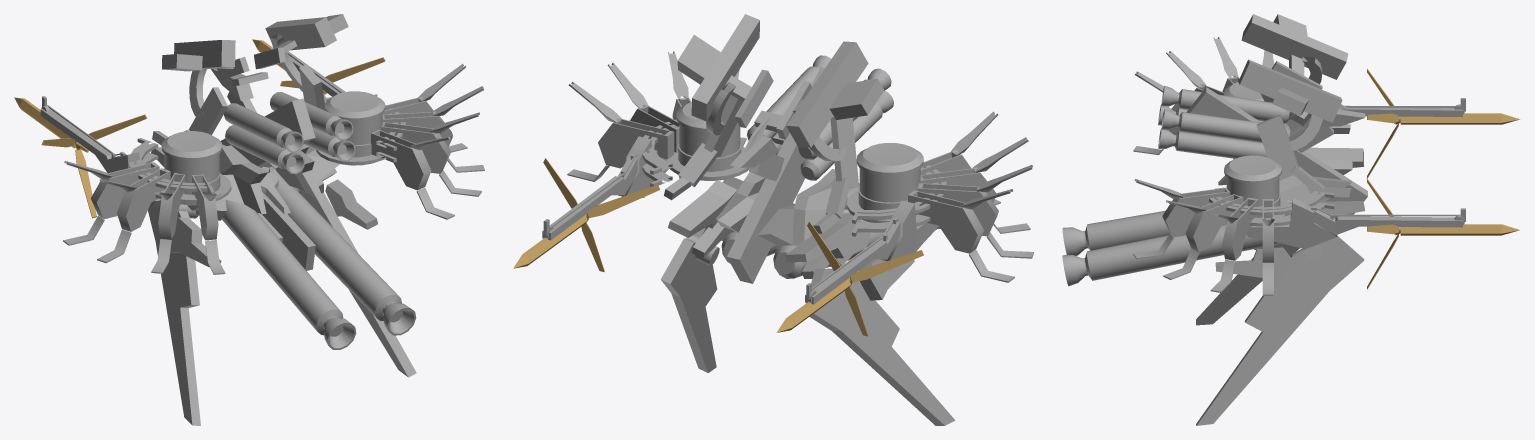
Rendered from mainB.fbx.
The picture shows the model from 3 angles, left to right: view 1: azimuth 30°, elevation 25°; view 2: azimuth 150°, elevation 25°; view 3: azimuth 270°, elevation 25°; orthographic projection. The views are drawn at different scales.
Parts seen in each view (by area): view 1: polySurface62; view 2: polySurface62; view 3: polySurface62.
Boxes of the visible parts, x1,y1,x2,y2 form: polySurface62: [14, 14, 484, 425]; polySurface62: [513, 14, 1033, 425]; polySurface62: [1062, 14, 1519, 425].
Size of the model in its own units: 80.79 by 68.42 by 84.2.
